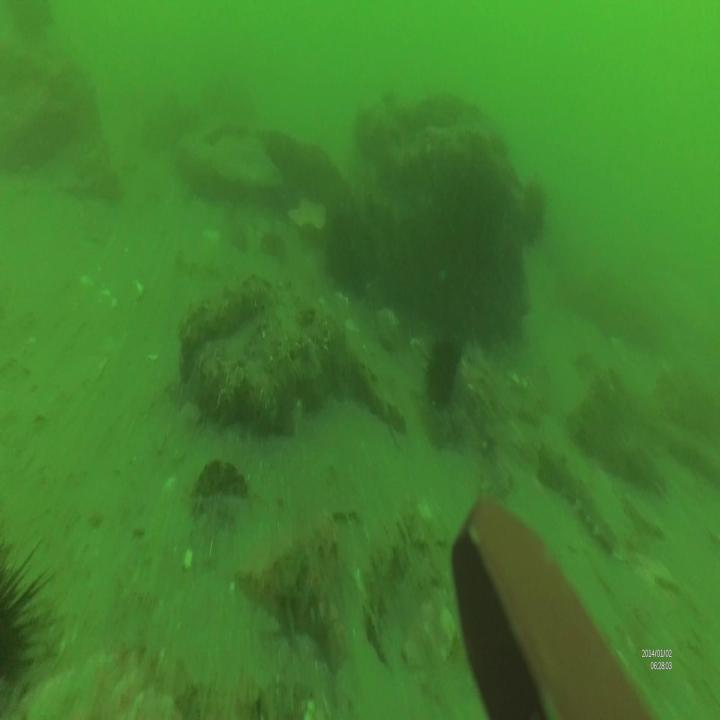echinus: (1, 532, 62, 714), (426, 328, 464, 409)
holothurian: (540, 439, 624, 566)
